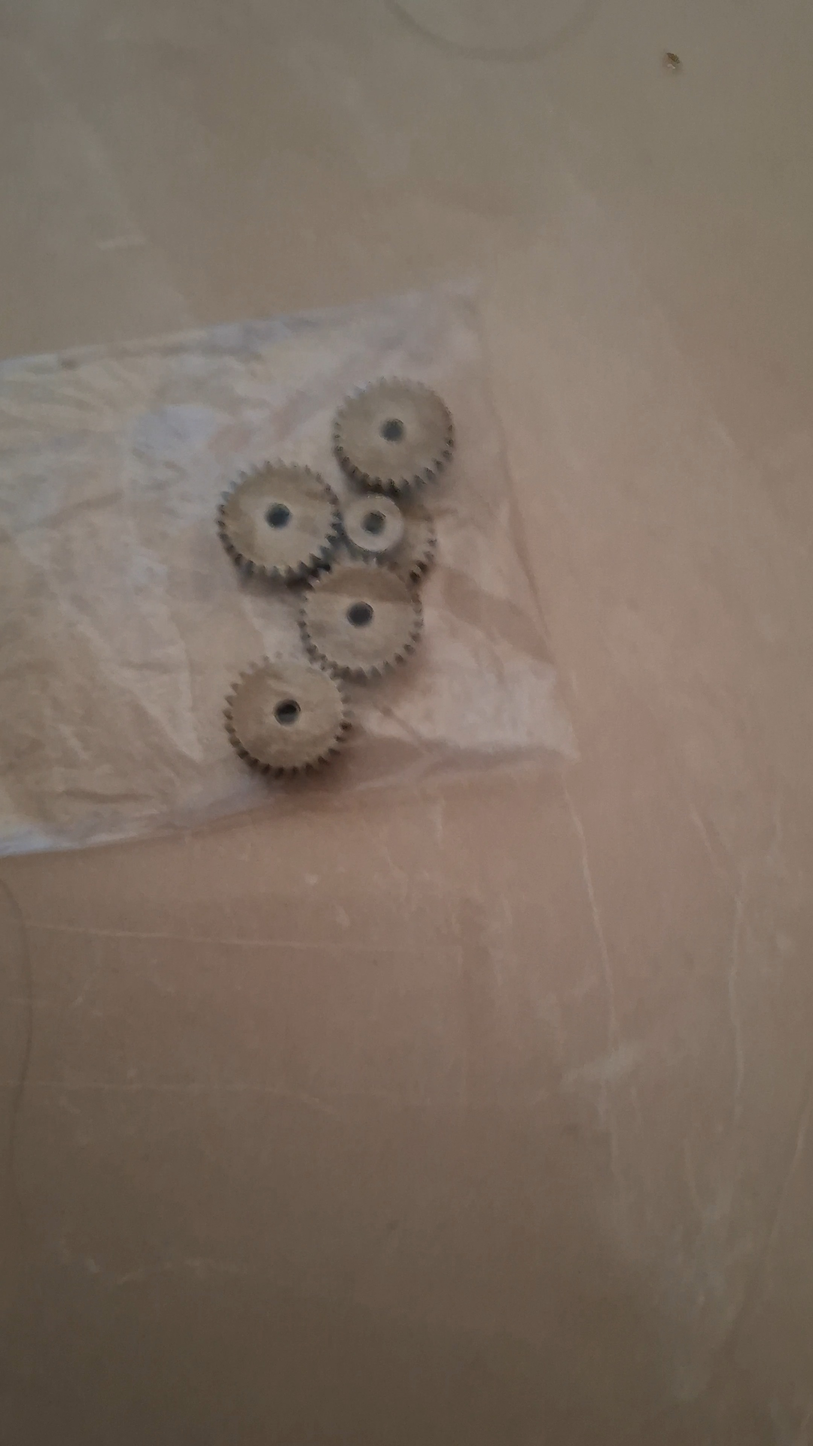spur gear: (218, 463, 340, 582), (300, 561, 422, 680), (226, 661, 349, 776), (333, 380, 454, 494), (343, 493, 436, 582)
